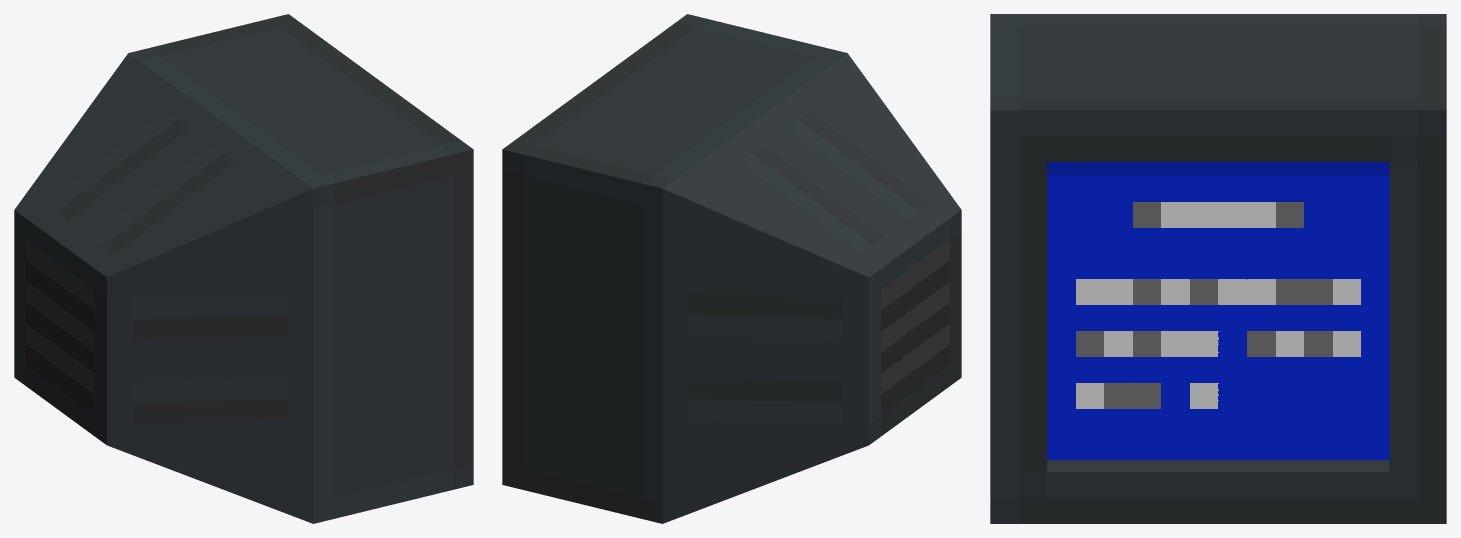
The model's file is crt_bsod.obj.
3 views of the same model, side by side, from view 1: azimuth 30°, elevation 25°; view 2: azimuth 150°, elevation 25°; view 3: azimuth 270°, elevation 25° (orthographic). The views are drawn at different scales.
Visible parts, largest first — view 1: Monitor; view 2: Monitor; view 3: Monitor, Screen.
Part boxes in pixels (x1,y1,x2,y2): Monitor: (14, 14, 473, 523); Monitor: (502, 14, 961, 523); Monitor: (990, 14, 1446, 523); Screen: (1047, 162, 1389, 460).
Size of the model in its own units: 1 by 1 by 1.
